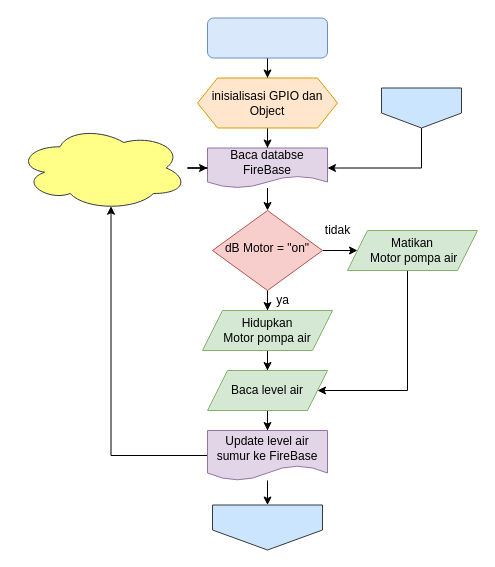
This 495x567 diagram has some shape labels left out. Here are the shapes that lost their labels. From the top down, the centre of each, then its label:
point (267, 37): mulai
point (421, 107): Looping
point (102, 167): FireBase DataBase
point (267, 527): Flow chart Alarm
